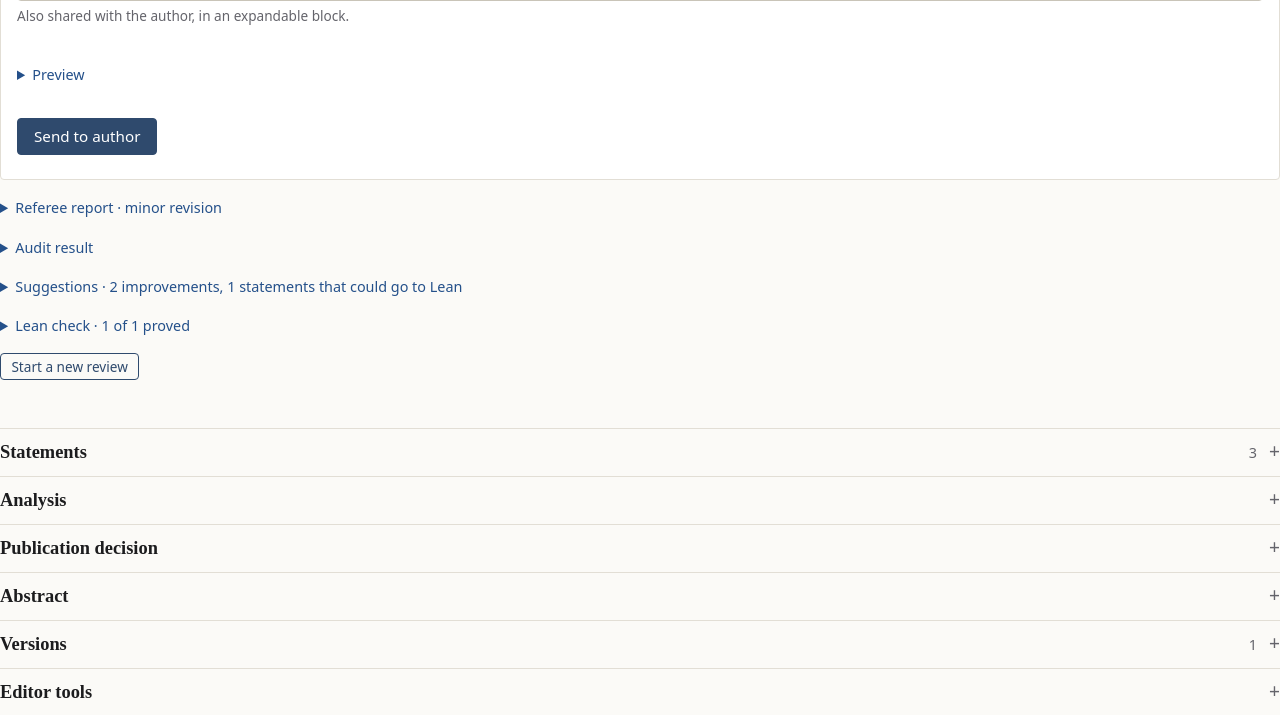
Test case: referee workspace › restarts a settled round and shows a conflict without losing the current report
(page scrolled)
Click the button "Start a new review" at point(70, 366), box [0,353,139,380]
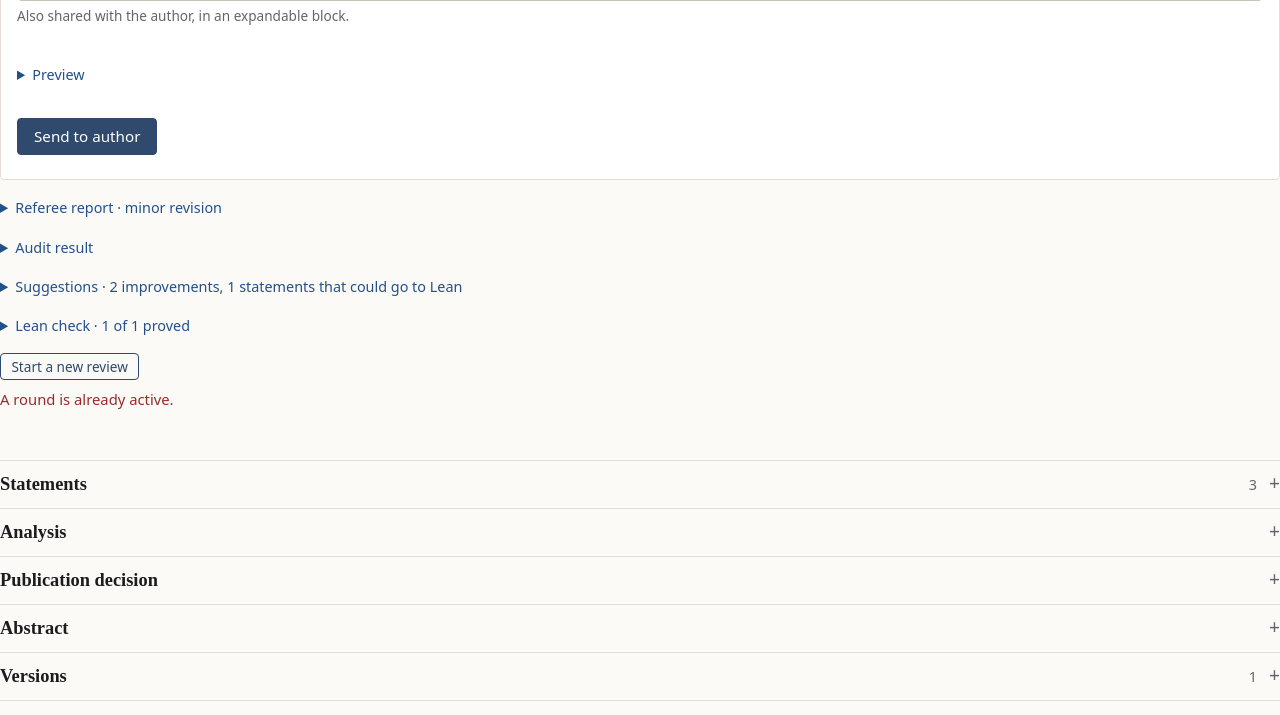
Check: the message reads "A round is already active.", box [0,389,174,409]
Click the heading "Referee report · minor revision" at point(119, 208), box [15,198,222,218]
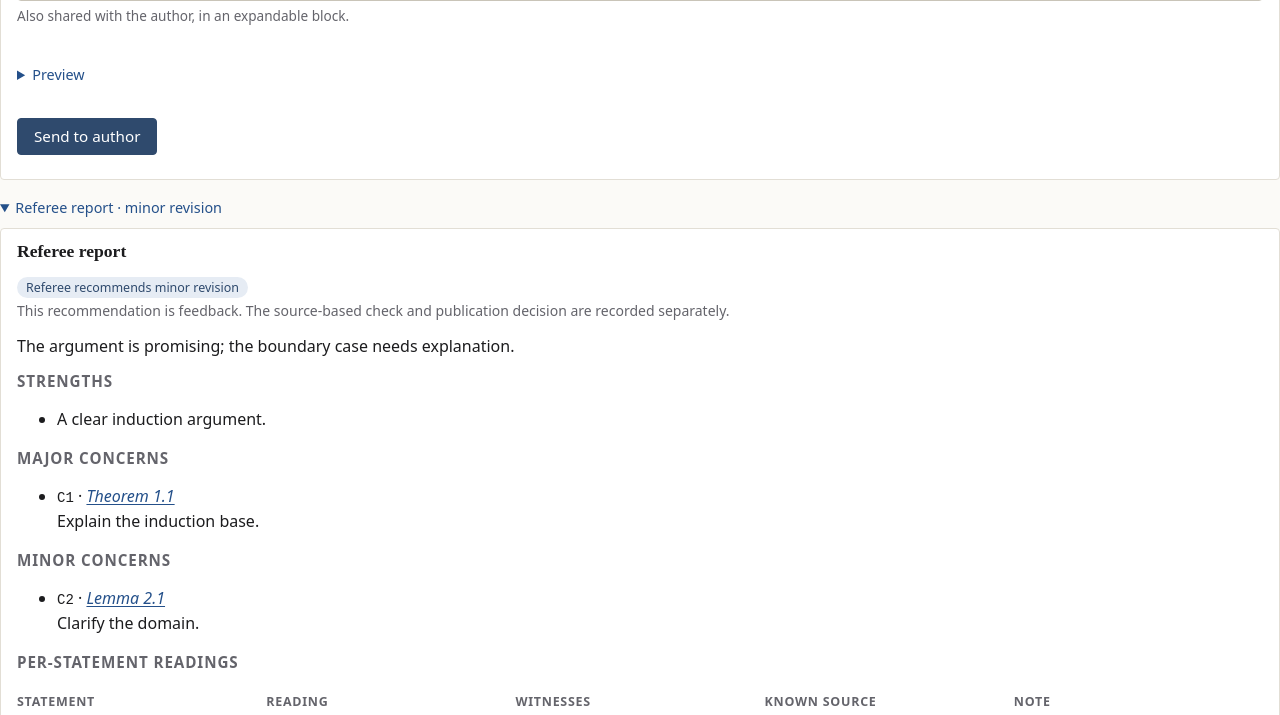
Check: the heading "Referee report" is shown, box [17,240,126,260]
